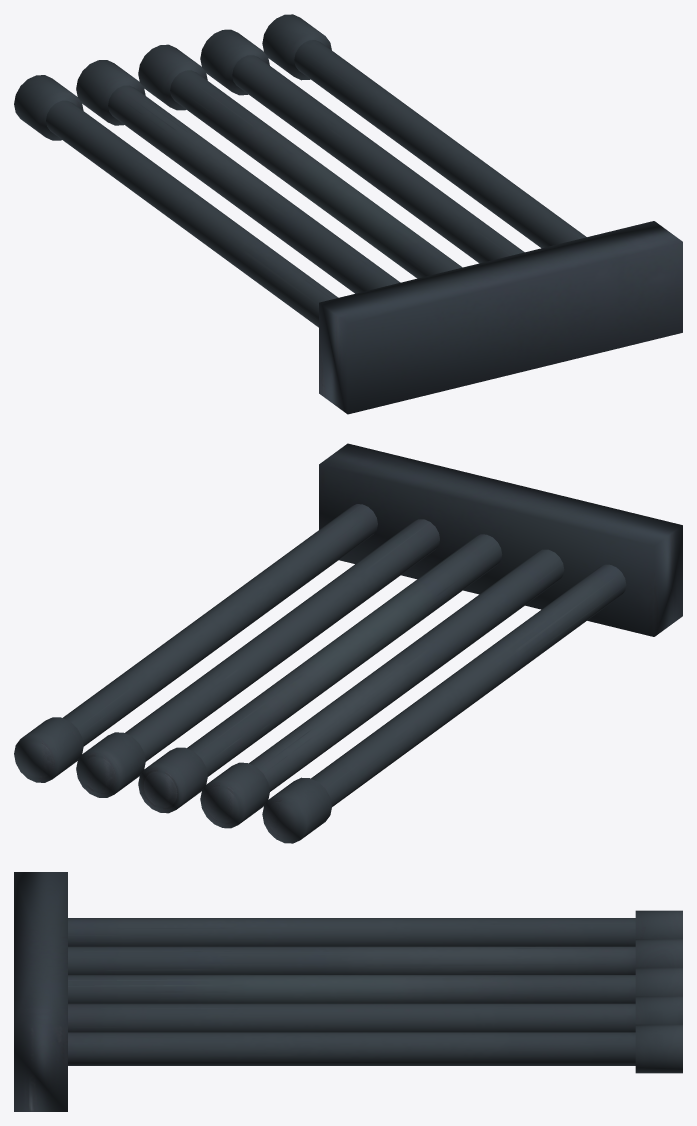
File: SM_Main_Canons.glb
The picture shows the model from 3 angles, top to bottom: view 1: azimuth 30°, elevation 25°; view 2: azimuth 150°, elevation 25°; view 3: azimuth 270°, elevation 25°; orthographic projection. The views are drawn at different scales.
Size of the model in its own units: 1.09 by 0.2828 by 2.
1 material, 1 textured.
